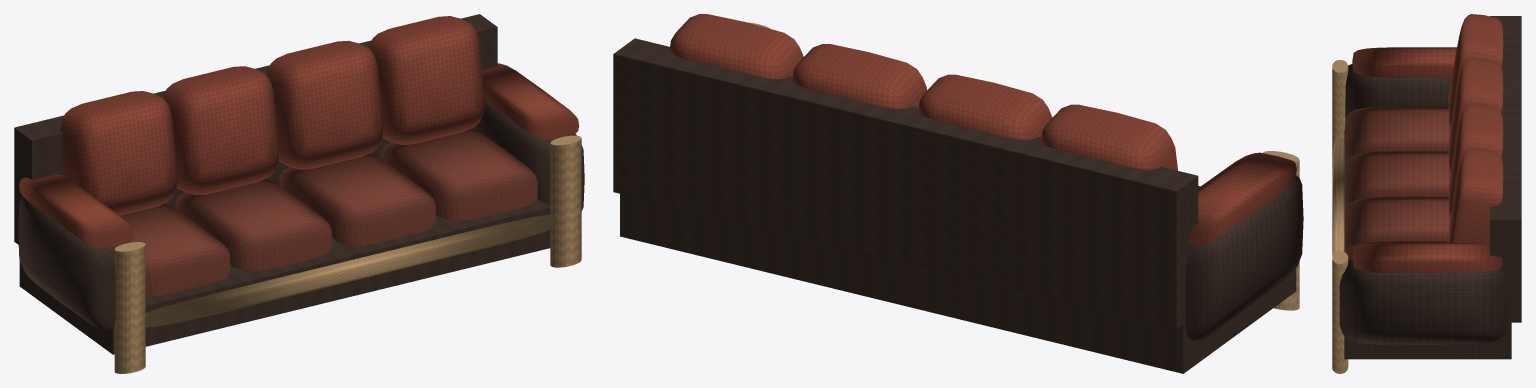
The picture shows the model from 3 angles, left to right: view 1: azimuth 30°, elevation 25°; view 2: azimuth 150°, elevation 25°; view 3: azimuth 270°, elevation 25°; orthographic projection. The views are drawn at different scales.
Visible parts, largest first — view 1: 1 base_frame, 16 back_cushion_3, 17 back_cushion_4, 15 back_cushion_2, 14 back_cushion_1, 12 seat_cushion_3, 11 seat_cushion_2, 13 seat_cushion_4, 9 front_log_rail, 3 left_arm_frame, 10 seat_cushion_1, 2 backrest_frame (+5 smaller); view 2: 2 backrest_frame, 1 base_frame, 3 left_arm_frame, 14 back_cushion_1, 16 back_cushion_3, 17 back_cushion_4, 15 back_cushion_2, 5 left_arm_pad, 7 left_log_post; view 3: 4 right_arm_frame, 2 backrest_frame, 11 seat_cushion_2, 10 seat_cushion_1, 12 seat_cushion_3, 6 right_arm_pad, 17 back_cushion_4, 3 left_arm_frame, 1 base_frame, 5 left_arm_pad, 15 back_cushion_2, 14 back_cushion_1 (+5 smaller).
Boxes of the visible parts, x1=… form: 1 base_frame: x1=19, y1=198, x2=550, y2=354; 16 back_cushion_3: x1=266, y1=40, x2=382, y2=169; 17 back_cushion_4: x1=368, y1=16, x2=484, y2=144; 15 back_cushion_2: x1=163, y1=66, x2=278, y2=195; 14 back_cushion_1: x1=60, y1=91, x2=177, y2=215; 12 seat_cushion_3: x1=279, y1=153, x2=435, y2=246; 11 seat_cushion_2: x1=175, y1=179, x2=331, y2=271; 13 seat_cushion_4: x1=381, y1=128, x2=537, y2=221; 9 front_log_rail: x1=145, y1=215, x2=555, y2=327; 3 left_arm_frame: x1=18, y1=195, x2=129, y2=330; 10 seat_cushion_1: x1=120, y1=203, x2=230, y2=296; 2 backrest_frame: x1=14, y1=14, x2=497, y2=244; 2 backrest_frame: x1=613, y1=38, x2=1198, y2=329; 1 base_frame: x1=620, y1=194, x2=1296, y2=373; 3 left_arm_frame: x1=1185, y1=175, x2=1303, y2=340; 14 back_cushion_1: x1=1041, y1=104, x2=1177, y2=170; 16 back_cushion_3: x1=792, y1=44, x2=926, y2=109; 17 back_cushion_4: x1=669, y1=14, x2=803, y2=79; 15 back_cushion_2: x1=918, y1=74, x2=1052, y2=139; 5 left_arm_pad: x1=1189, y1=152, x2=1296, y2=245; 7 left_log_post: x1=1263, y1=151, x2=1299, y2=310; 4 right_arm_frame: x1=1339, y1=259, x2=1508, y2=344; 2 backrest_frame: x1=1490, y1=16, x2=1521, y2=322; 11 seat_cushion_2: x1=1344, y1=151, x2=1449, y2=205; 10 seat_cushion_1: x1=1344, y1=106, x2=1449, y2=160; 12 seat_cushion_3: x1=1344, y1=196, x2=1449, y2=250; 6 right_arm_pad: x1=1352, y1=243, x2=1502, y2=272; 17 back_cushion_4: x1=1448, y1=148, x2=1503, y2=243; 3 left_arm_frame: x1=1345, y1=64, x2=1451, y2=118; 1 base_frame: x1=1344, y1=130, x2=1511, y2=359; 5 left_arm_pad: x1=1352, y1=47, x2=1456, y2=77; 15 back_cushion_2: x1=1448, y1=58, x2=1503, y2=172; 14 back_cushion_1: x1=1448, y1=14, x2=1503, y2=127.
Bounding box in the file's own units: 2.62 × 1 × 0.974.
Materials: 4 (4 with a texture image).
